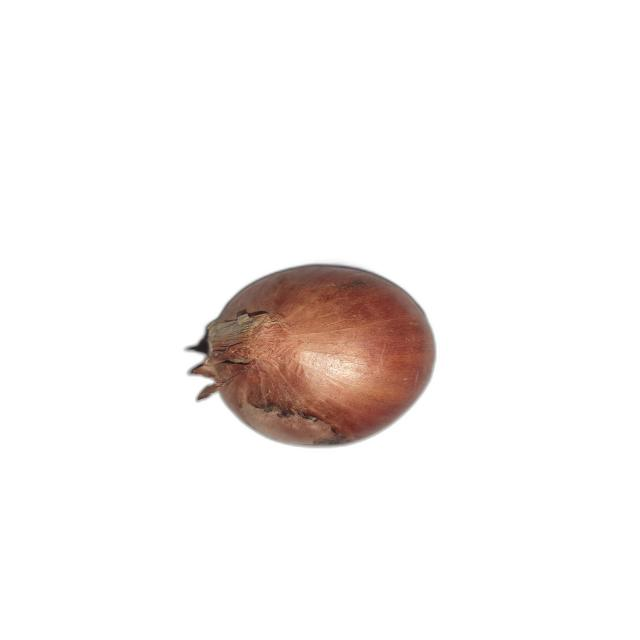onion: (185, 264, 439, 448)
